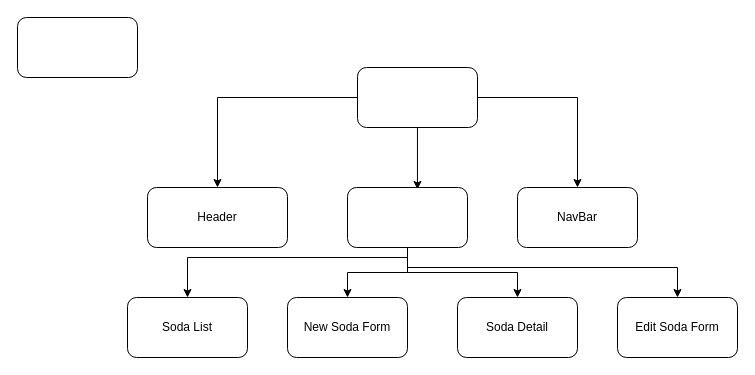
Image size: 755x375. Some labels were removed from this diagram. Each missing label, with the box of its shape:
App.Js: (356, 66, 478, 128)
SodaControl: (346, 186, 468, 248)
V1: (16, 16, 138, 78)
